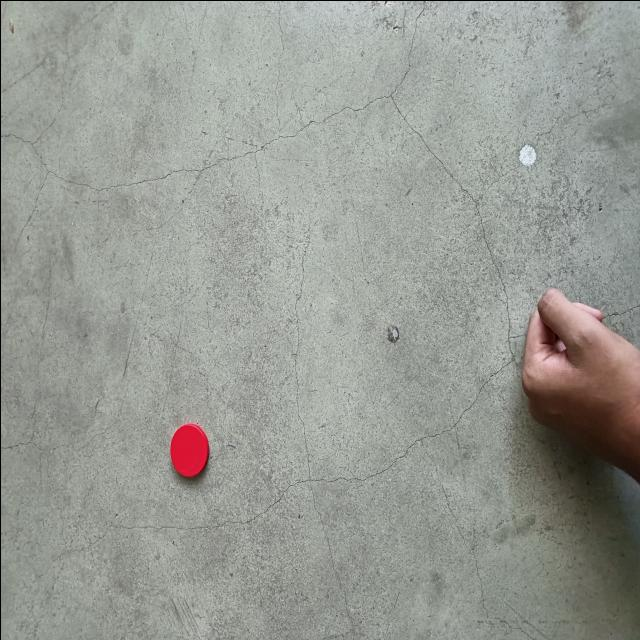chip: (169, 422, 209, 479)
